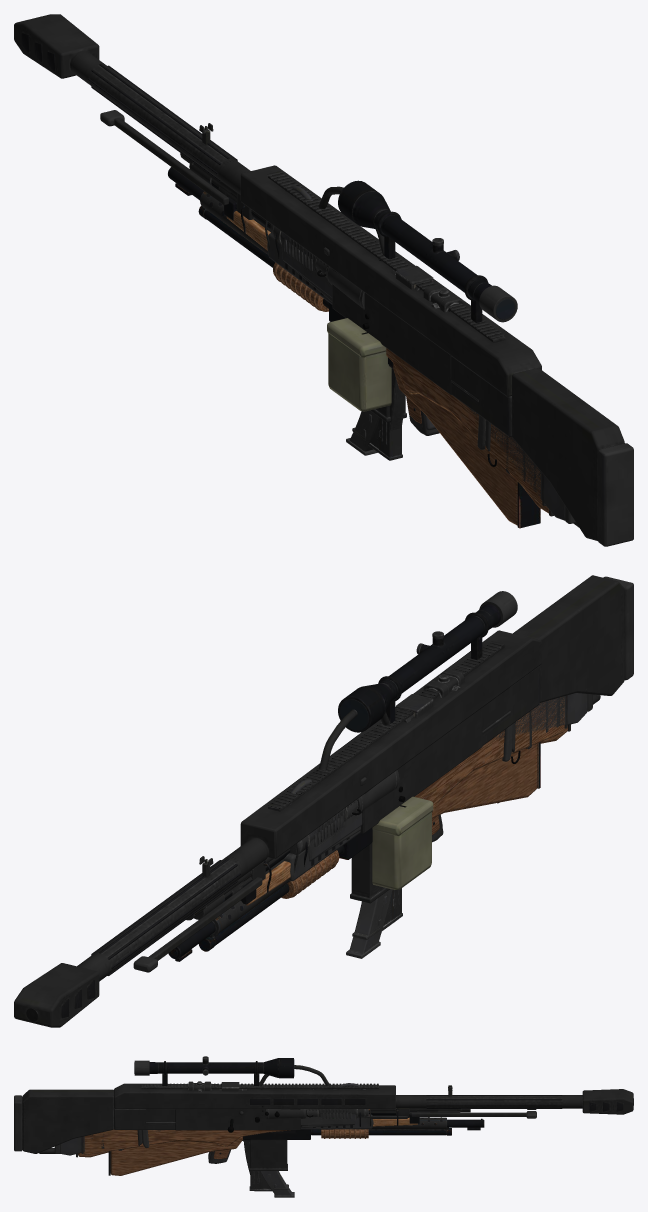
Rendered from weapons.glb.
3 renders of one model, top to bottom at view 1: azimuth 30°, elevation 25°; view 2: azimuth 150°, elevation 25°; view 3: azimuth 270°, elevation 25°, orthographic. The views are drawn at different scales.
Parts seen in each view (by area): view 1: barrett, m249, trench, m249_mag, garand, mp7, ak12, kar98k, m4a1, ak12_mag, m4a1_mag, trench_pump (+2 smaller); view 2: barrett, m249, trench, m249_mag, garand, mp7, ak12_mag, ak12, barrett_mag, kar98k, benelli, m4a1 (+1 smaller); view 3: barrett, trench, m249, garand, barrett_mag, mp7, ak12, benelli, ak12_mag, kar98k, trench_pump, m4a1 (+2 smaller).
Part boxes in pixels (x1,y1,x2,y2): barrett: (14,14,633,546); m249: (180,123,575,523); trench: (168,167,540,528); m249_mag: (327,313,391,411); garand: (189,163,545,505); mp7: (270,224,490,451); ak12: (218,186,525,481); kar98k: (224,196,496,466); m4a1: (230,192,509,473); ak12_mag: (346,410,379,455); m4a1_mag: (368,368,405,456); trench_pump: (273,262,328,311); barrett: (14,575,633,1027); m249: (186,693,592,920); trench: (168,742,540,961); m249_mag: (372,786,433,889); garand: (194,695,567,919); mp7: (290,669,515,854); ak12_mag: (346,889,392,958); ak12: (231,701,548,895); barrett_mag: (350,843,389,903); kar98k: (241,732,520,905); benelli: (224,697,559,900); m4a1: (242,694,531,881); barrett: (14,1056,633,1162); trench: (108,1117,484,1175); m249: (54,1083,470,1160); garand: (81,1109,460,1154); barrett_mag: (249,1139,287,1170); mp7: (137,1081,368,1163); ak12: (101,1089,429,1148); benelli: (90,1113,395,1138); ak12_mag: (260,1171,294,1197); kar98k: (156,1089,419,1146); trench_pump: (321,1129,368,1138); m4a1: (118,1082,418,1150).
Size of the model in its own units: 0.1245 by 0.449 by 1.83.
15 materials, 12 textured.
